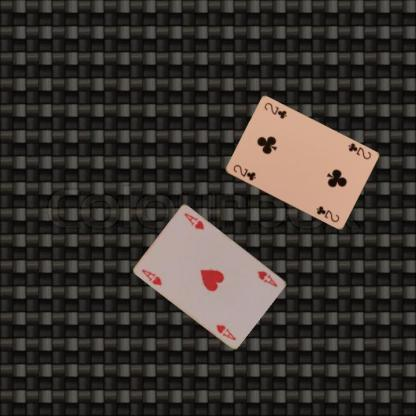2c: (230, 162, 257, 182), (346, 140, 373, 160)
Ah: (139, 266, 163, 286), (256, 268, 278, 288)
